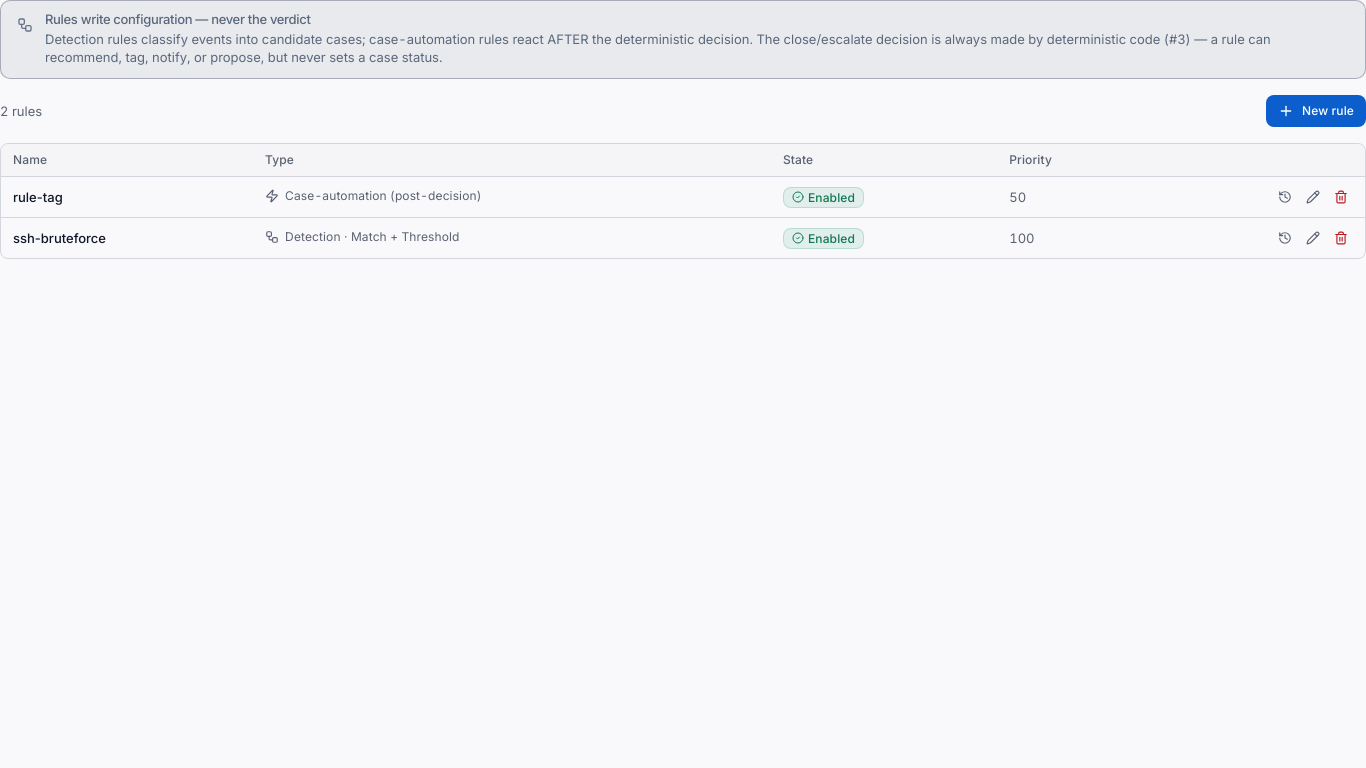
DetectionRulesHome › surfaces a validation message (not a silent no-op) when a new detection rule has no name/condition
Click the button "New rule": click(1316, 111) [1266, 95, 1365, 127]
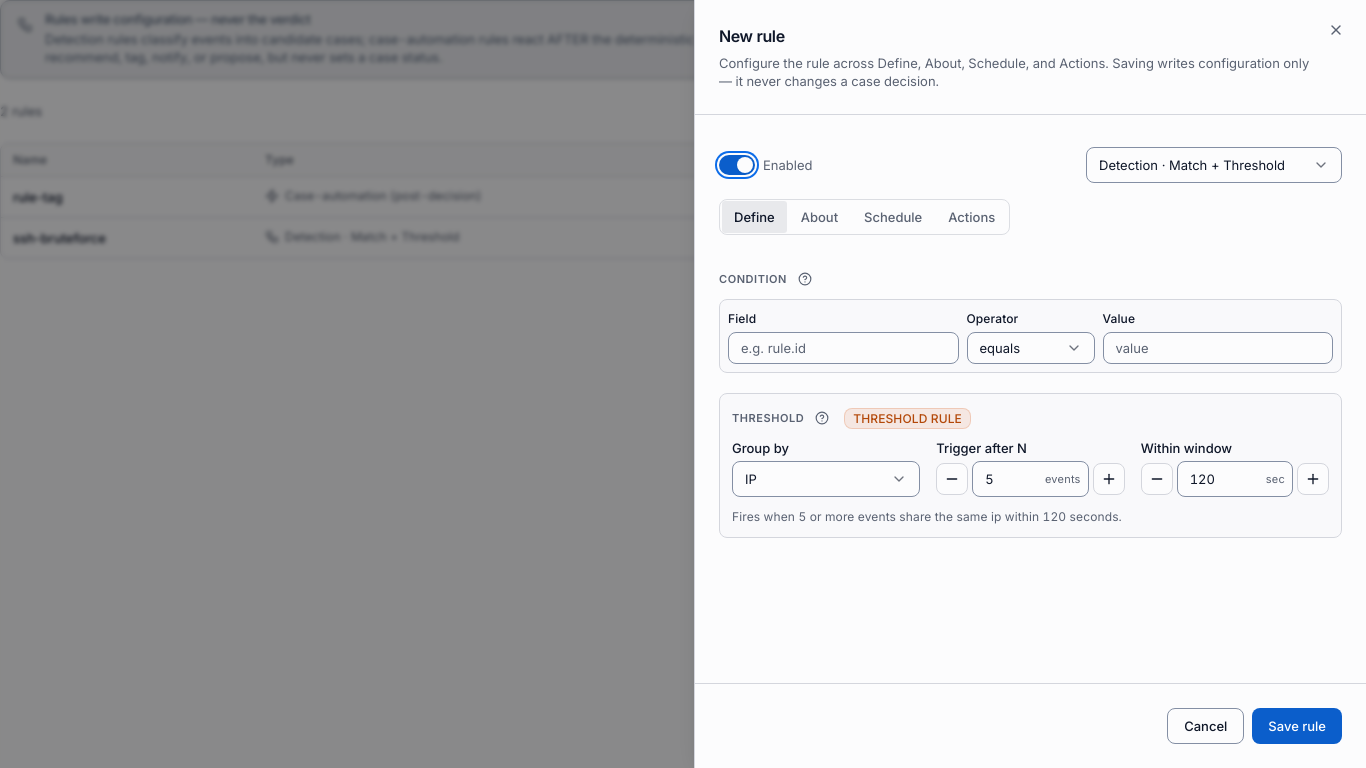
# A fresh detection_match rule has an empty name + empty first condition → invalid.
Click the button "Save rule": click(1297, 726) [1252, 708, 1342, 744]
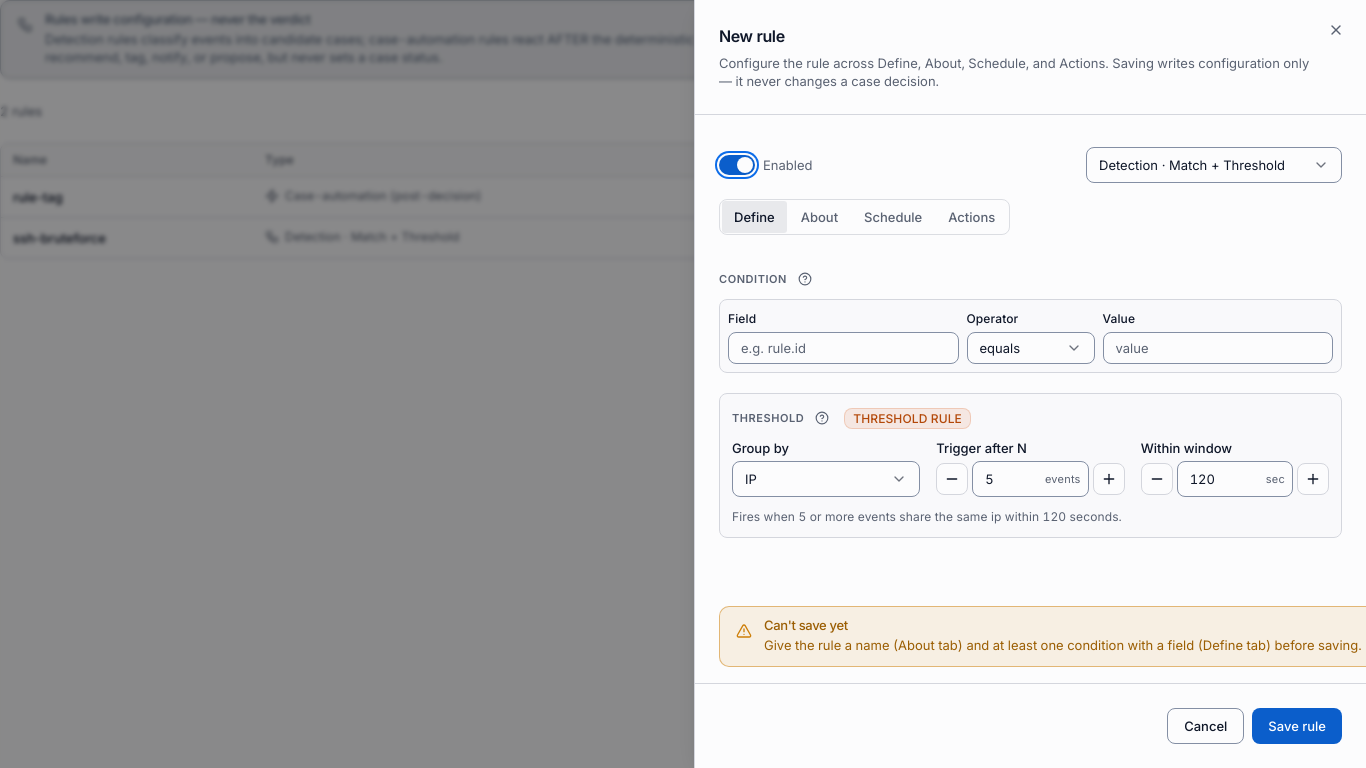
Check: the heading "Can't save yet" is shown, box [764, 617, 848, 633]
Check: the text "at least one condition" is shown, box [764, 637, 1362, 653]
